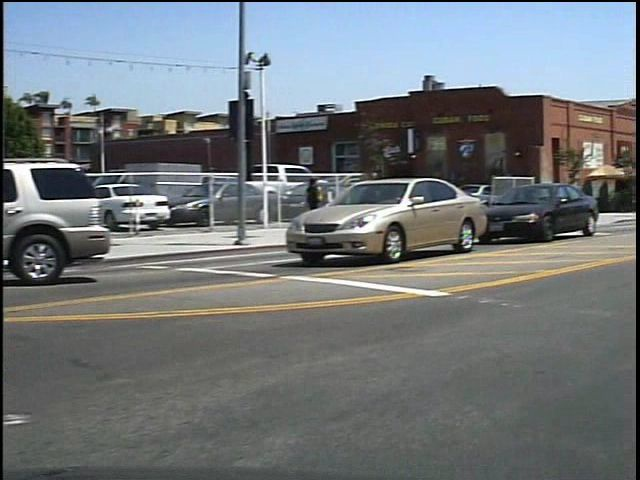person: (311, 171, 336, 232)
